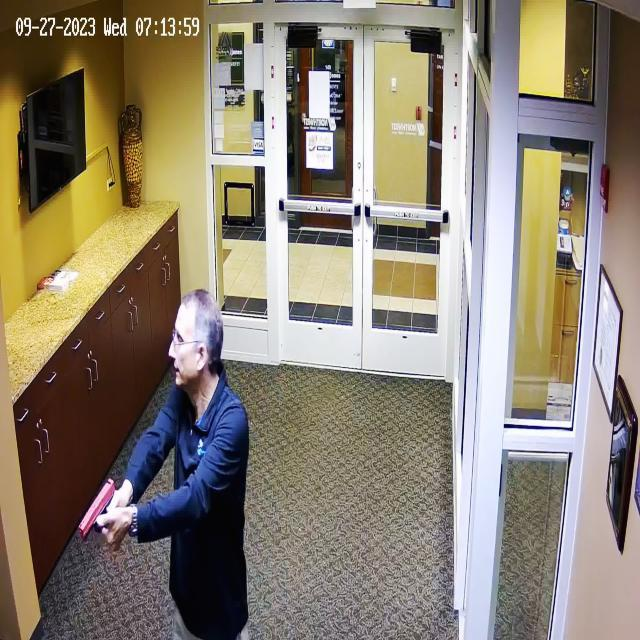Gun: (72, 479, 140, 544)
